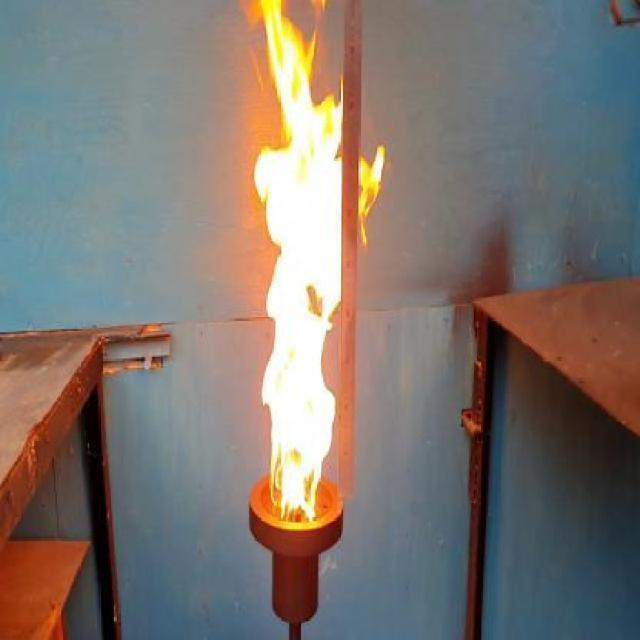Fire: (243, 0, 390, 517)
